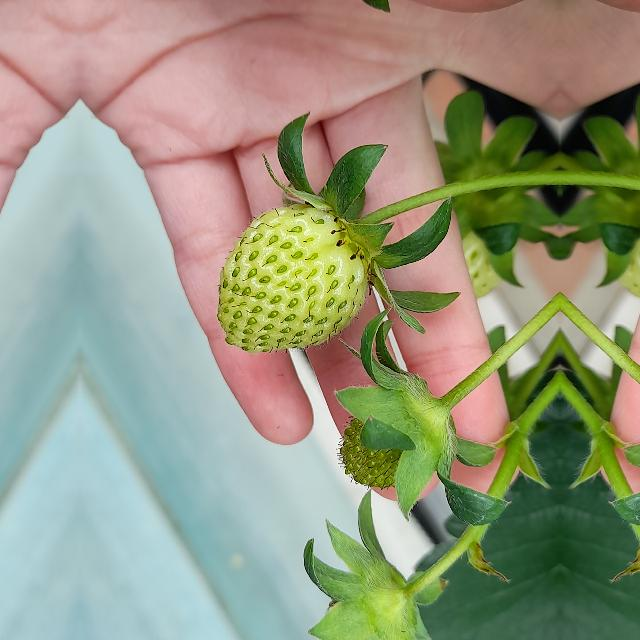Health_25: (218, 203, 368, 353), (338, 390, 454, 494)
